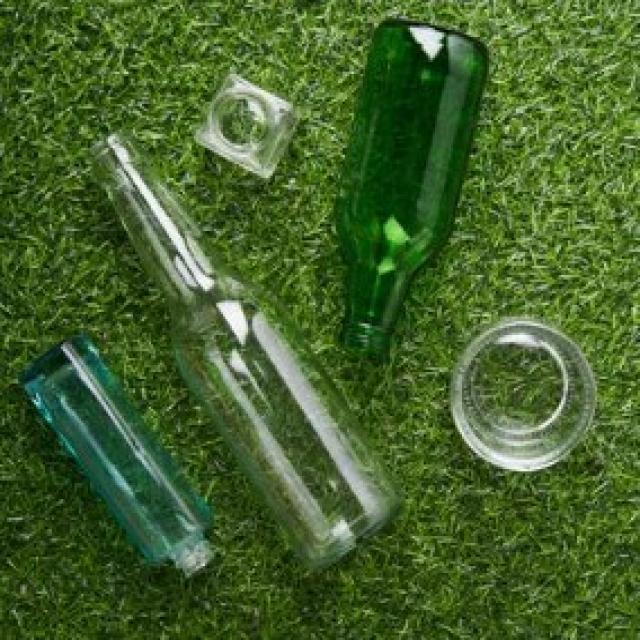electronic: (23, 18, 602, 582)
